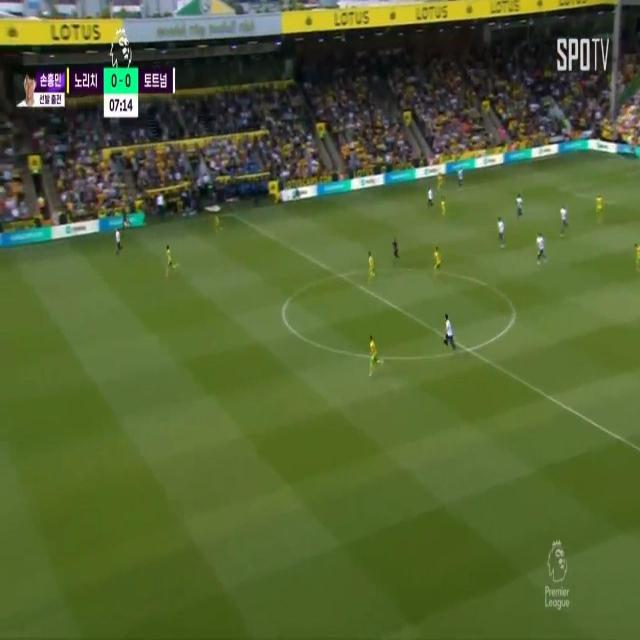player: (443, 312, 453, 352), (369, 336, 378, 374), (558, 202, 568, 236), (433, 245, 443, 279), (368, 249, 377, 280), (166, 245, 175, 275), (496, 215, 504, 245), (212, 212, 221, 236), (426, 184, 434, 210), (439, 195, 448, 217), (516, 196, 524, 217), (538, 234, 544, 262), (596, 192, 602, 218), (636, 238, 640, 276), (437, 173, 444, 193), (117, 228, 122, 256)
referee: (392, 237, 400, 263)
